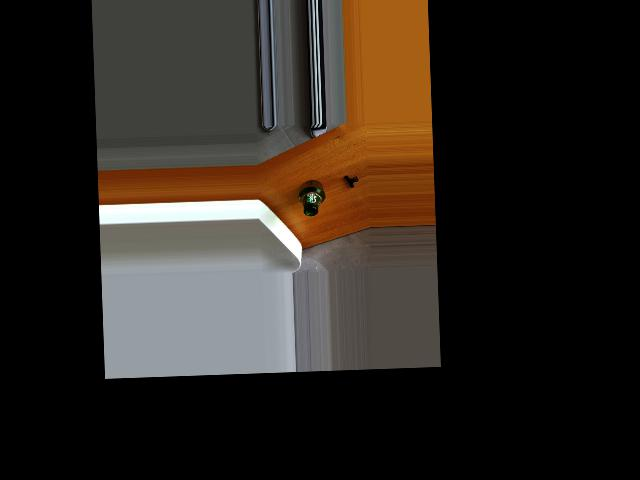beer: (297, 179, 325, 216)
